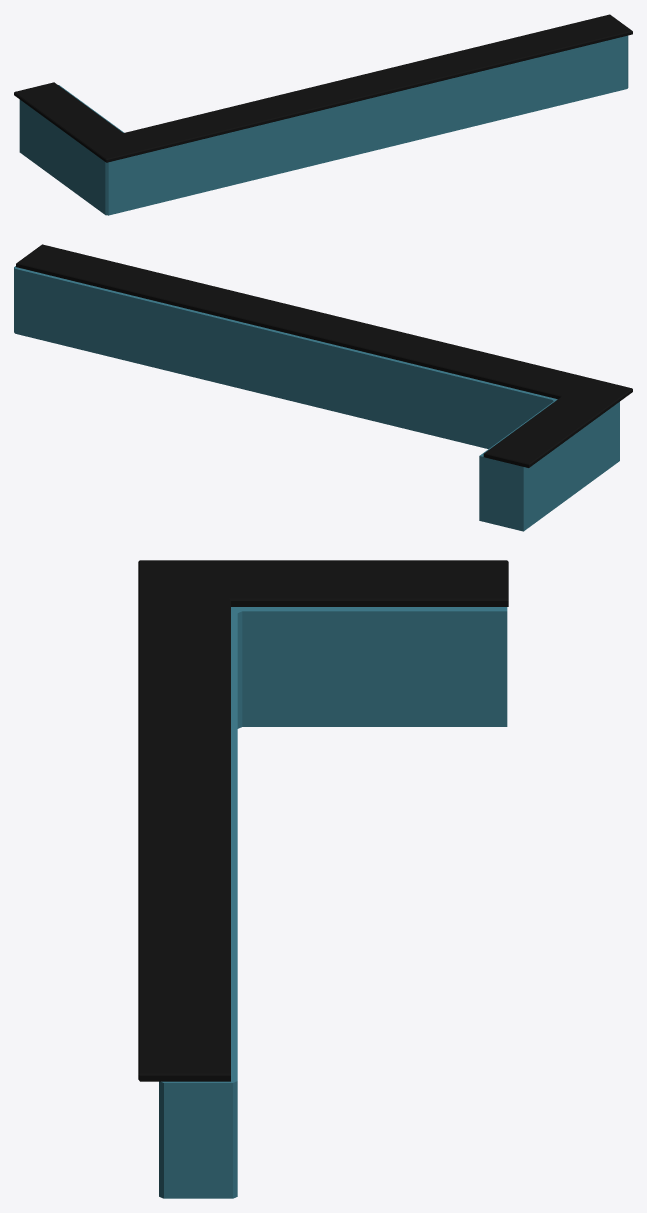
The model's file is FixedCountersNew.fbx.
3 renders of one model, top to bottom at view 1: azimuth 30°, elevation 25°; view 2: azimuth 150°, elevation 25°; view 3: azimuth 270°, elevation 25°, orthographic. The views are drawn at different scales.
Parts seen in each view (by area): view 1: Cube.026, Cube.001; view 2: Cube.026, Cube.001; view 3: Cube.001, Cube.026.
Boxes of the visible parts, x1=… form: Cube.026: x1=19, y1=35, x2=628, y2=215; Cube.001: x1=14, y1=14, x2=632, y2=162; Cube.026: x1=14, y1=266, x2=619, y2=531; Cube.001: x1=16, y1=244, x2=632, y2=467; Cube.001: x1=138, y1=560, x2=508, y2=1081; Cube.026: x1=159, y1=607, x2=507, y2=1198.
Bounding box in the file's own units: 13127 × 1464 × 3980.
